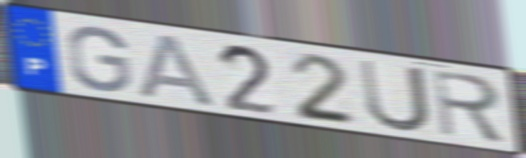2: (288, 50, 357, 126), (215, 42, 278, 116)
A: (136, 31, 219, 110)
G: (65, 23, 133, 94)
R: (430, 67, 509, 145)
U: (356, 56, 434, 135)
